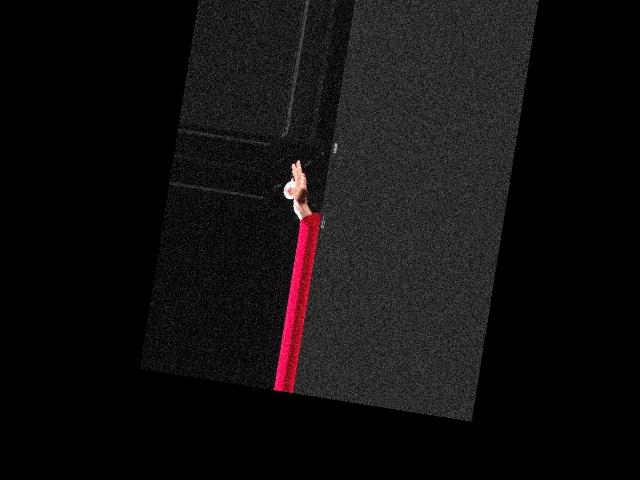egg: (282, 180, 297, 200)
